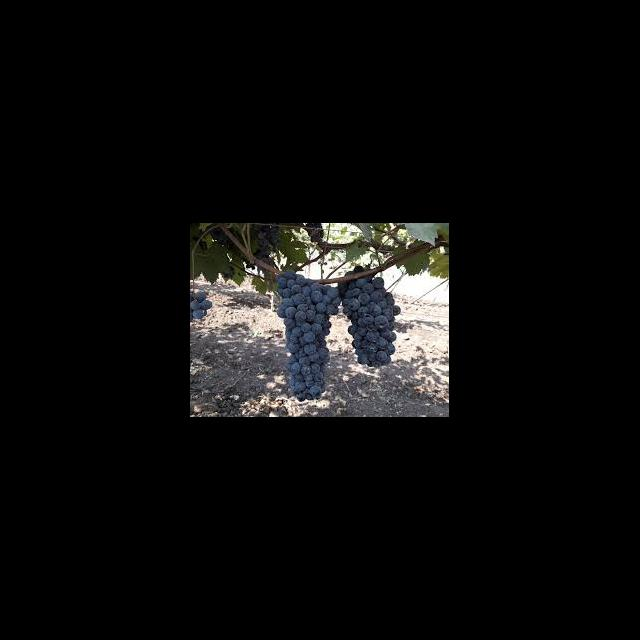grape: (276, 270, 342, 400), (338, 265, 401, 367)
